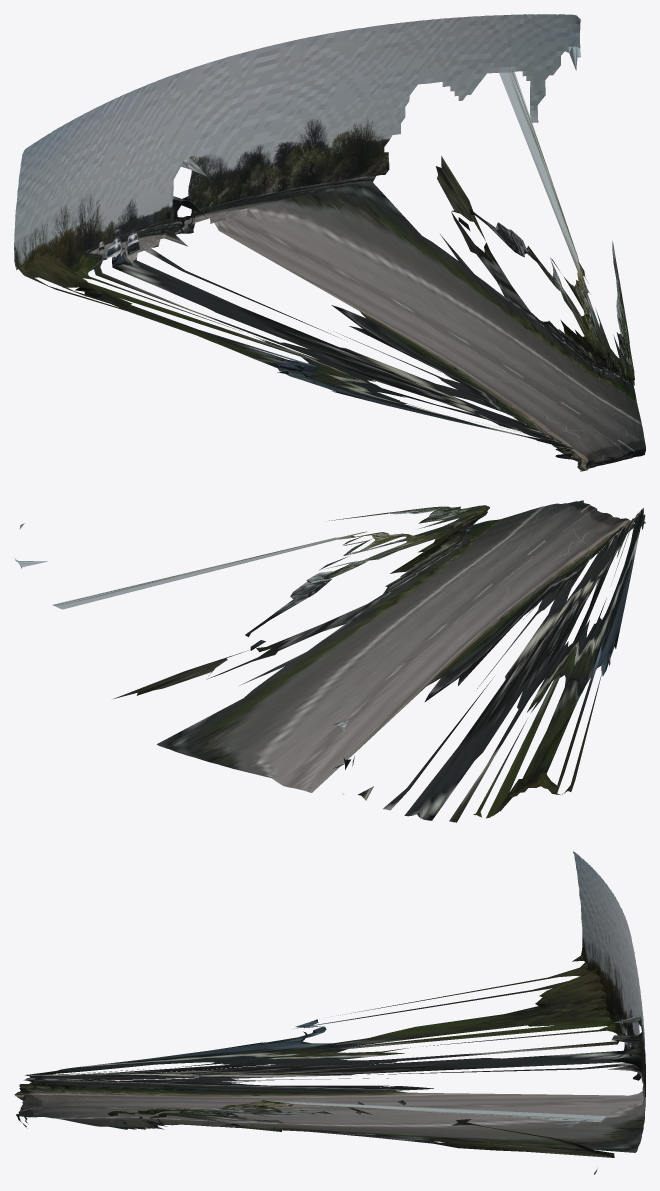
The picture shows the model from 3 angles, top to bottom: view 1: azimuth 30°, elevation 25°; view 2: azimuth 150°, elevation 25°; view 3: azimuth 270°, elevation 25°; orthographic projection. The views are drawn at different scales.
Parts seen in each view (by area): view 1: defaultobject; view 2: defaultobject; view 3: defaultobject.
Boxes of the visible parts, box(x1,y1,x2,y2) form: defaultobject: box(14, 14, 645, 471); defaultobject: box(15, 500, 645, 822); defaultobject: box(14, 851, 645, 1174).
Bounding box in the file's own units: 40.97 × 12.4 × 44.68.
1 material, 1 textured.
